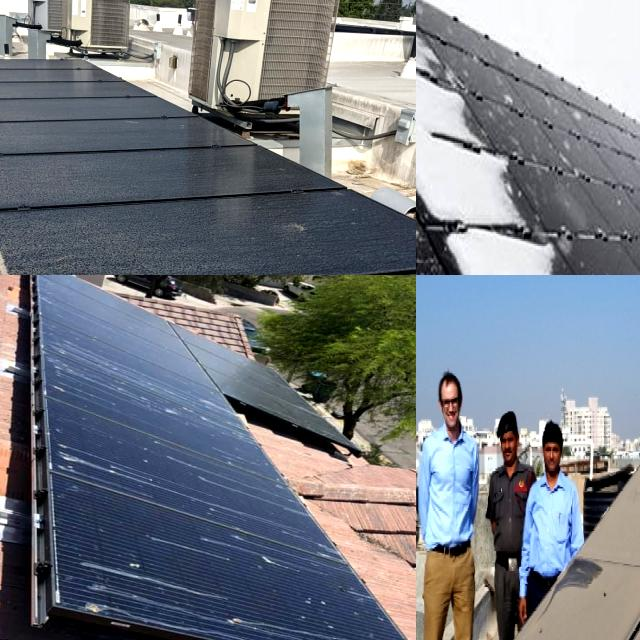bird: (196, 408, 270, 469), (130, 507, 222, 552), (252, 508, 332, 550), (377, 352, 416, 427)
dust: (250, 201, 328, 259), (558, 568, 636, 624), (0, 210, 53, 275), (0, 52, 20, 138), (0, 162, 35, 202)
panel: (416, 143, 498, 224), (416, 46, 485, 139), (451, 218, 553, 275), (416, 0, 467, 36), (416, 0, 457, 24)
